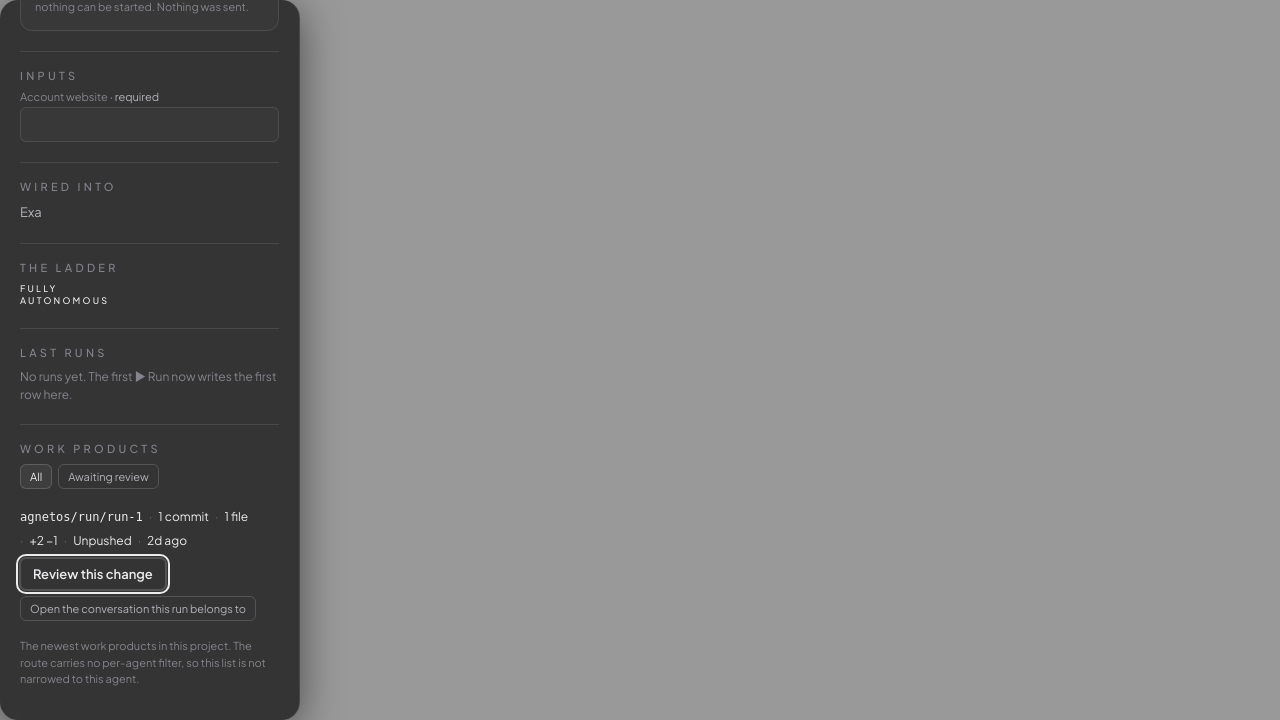
Test: the review screen takes focus and keeps it › moves focus into the review when it opens, instead of leaving it on a pill behind it
(page scrolled)
Click the button "Review this change" at (93, 574), box x1=20 y1=558 x2=166 y2=590
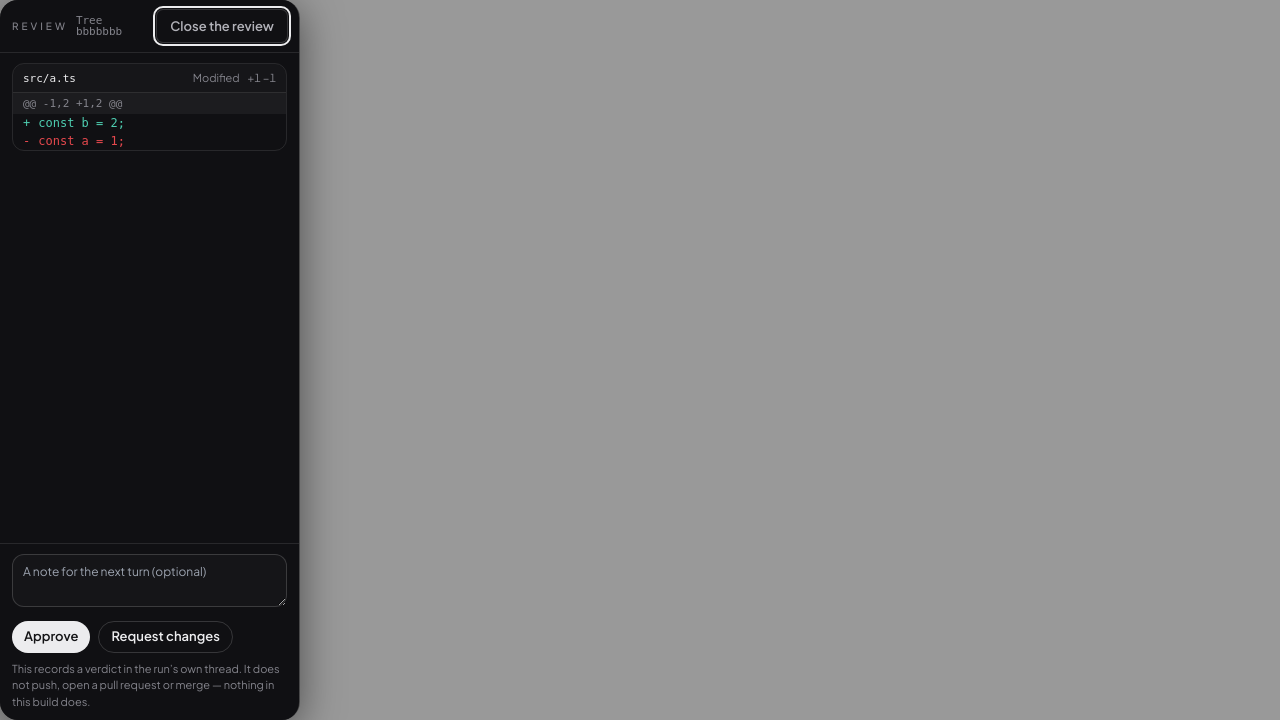
Now the element with test id "diff-review" shows "src/a.ts", box x1=23 y1=72 x2=76 y2=85
